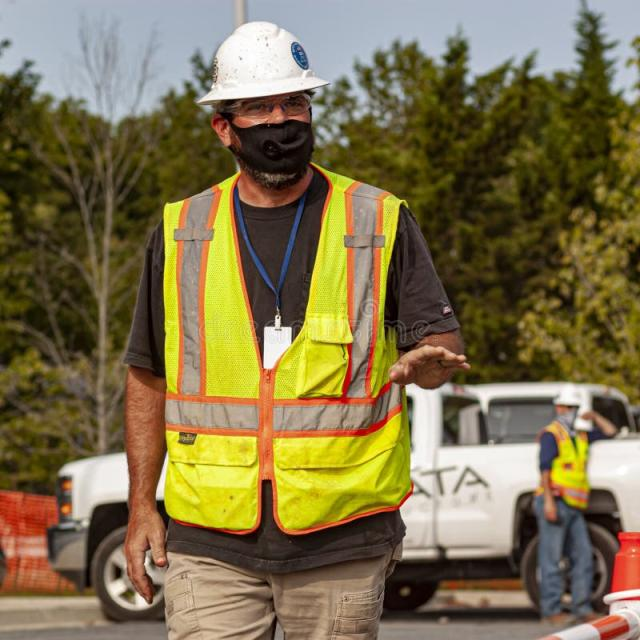goggles: (208, 93, 328, 131)
helmet: (202, 14, 327, 117), (551, 379, 591, 412)
vest: (132, 166, 418, 543), (545, 422, 594, 508)
